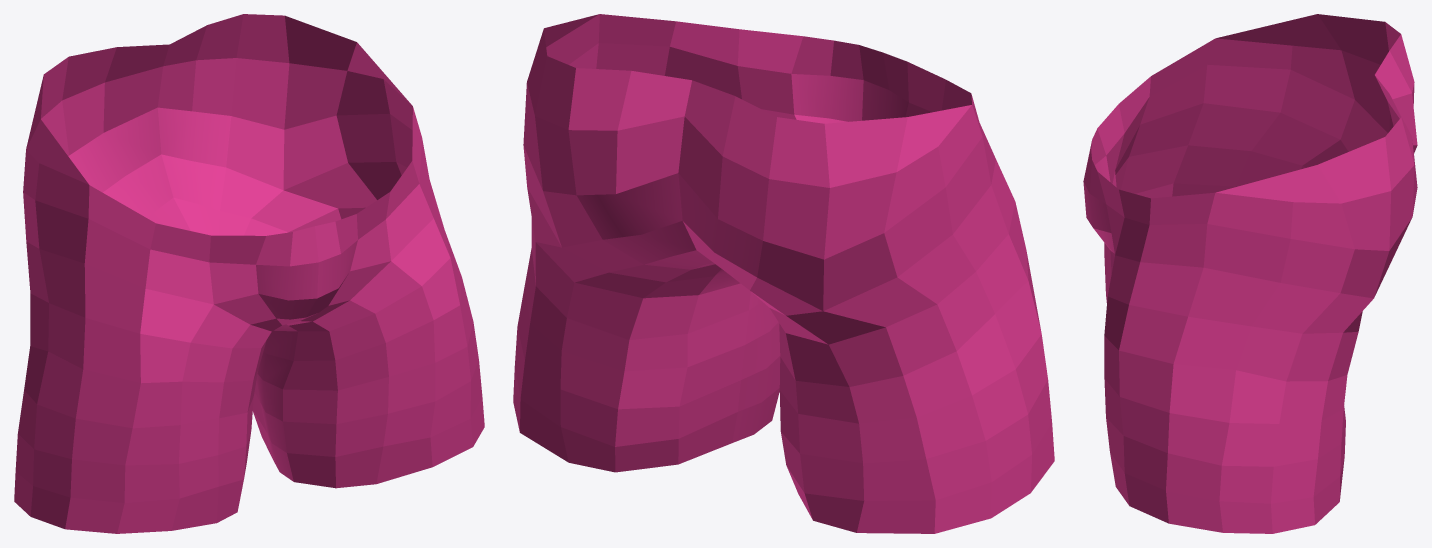
Rendered from pants.fbx.
3 renders of one model, left to right at view 1: azimuth 30°, elevation 25°; view 2: azimuth 150°, elevation 25°; view 3: azimuth 270°, elevation 25°, orthographic. The views are drawn at different scales.
Visible parts, largest first — view 1: polySurface3; view 2: polySurface3; view 3: polySurface3.
Boxes of the visible parts, bbox=[...] form: polySurface3: bbox=[14, 14, 484, 533]; polySurface3: bbox=[513, 14, 1054, 533]; polySurface3: bbox=[1083, 14, 1417, 533].
Bounding box in the file's own units: 1.03 × 0.8579 × 0.7016.
